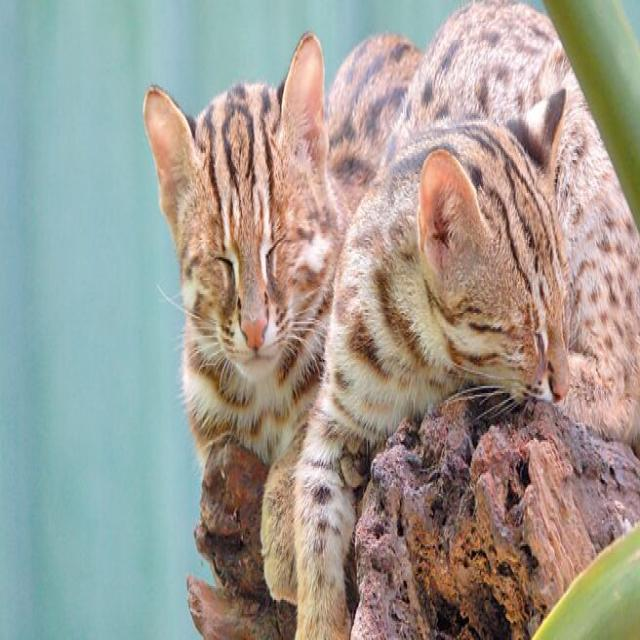leopard: (379, 66, 593, 476), (114, 51, 330, 365)
